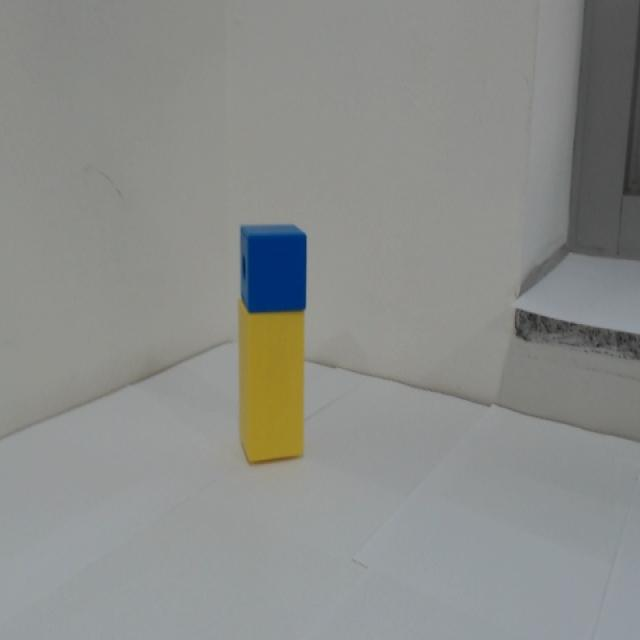cube: (237, 222, 307, 315)
